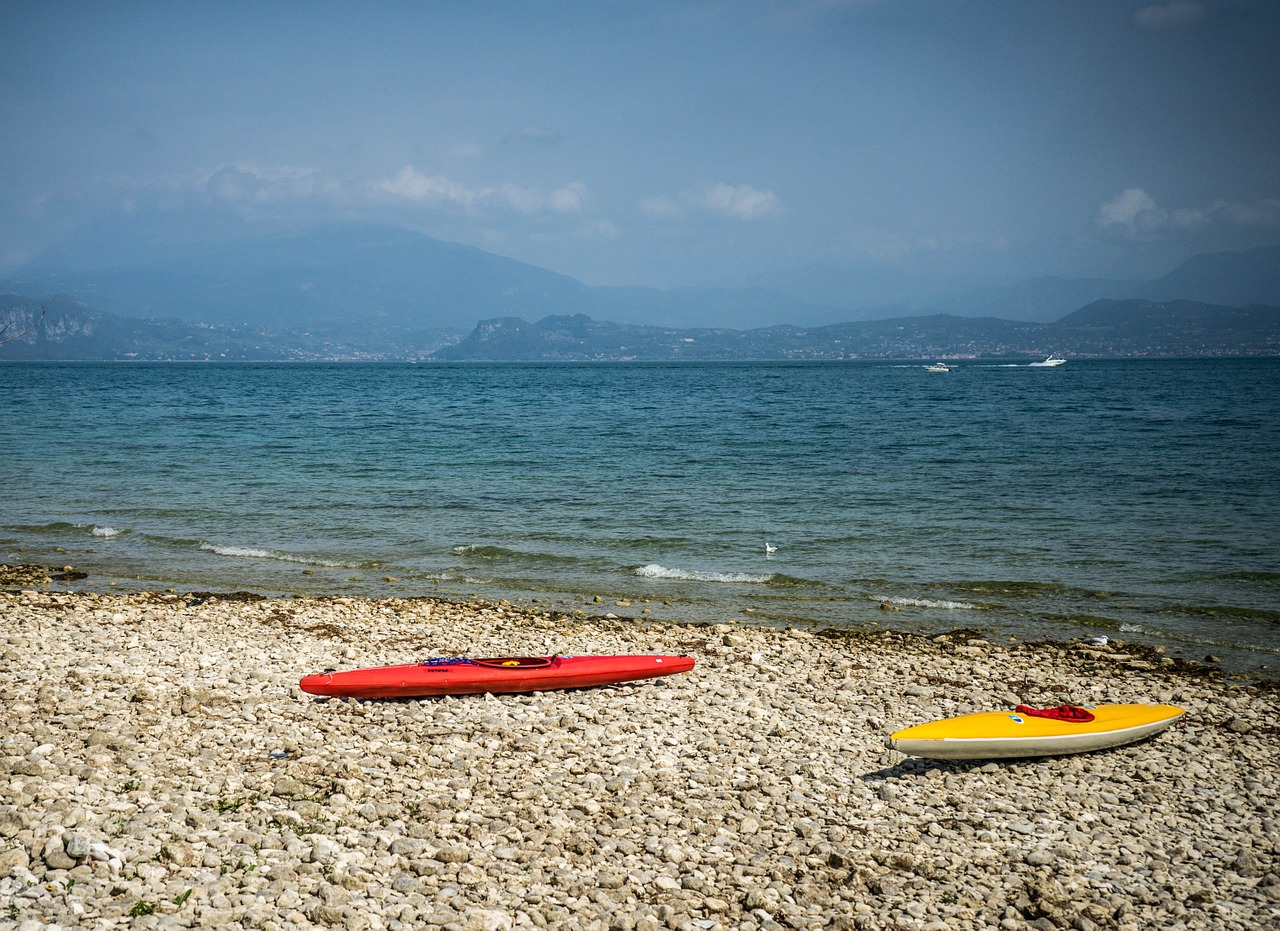kayak: (293, 647, 697, 702), (881, 696, 1181, 768)
